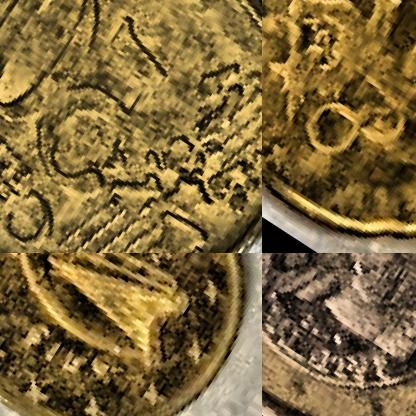coin: (0, 0, 261, 252), (0, 253, 261, 415), (262, 0, 415, 252), (262, 253, 415, 415)
